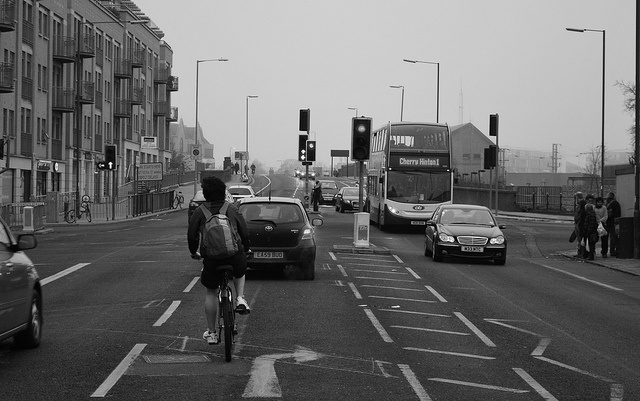non-vehicle: (212, 264, 248, 363), (64, 201, 91, 223), (172, 188, 184, 208)
